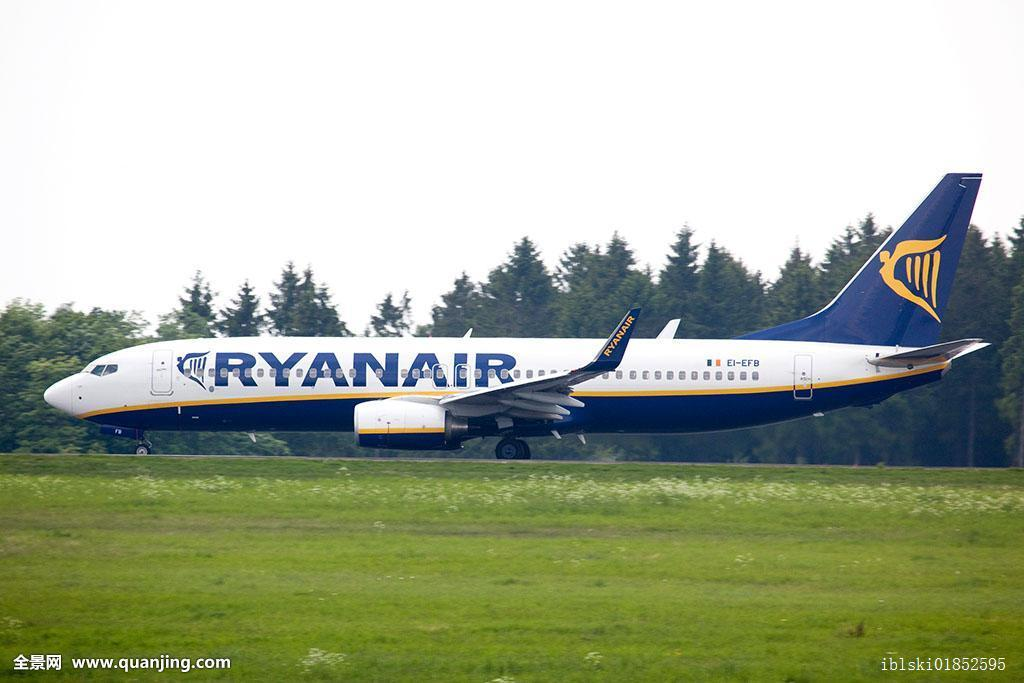airplane: (34, 168, 995, 458)
